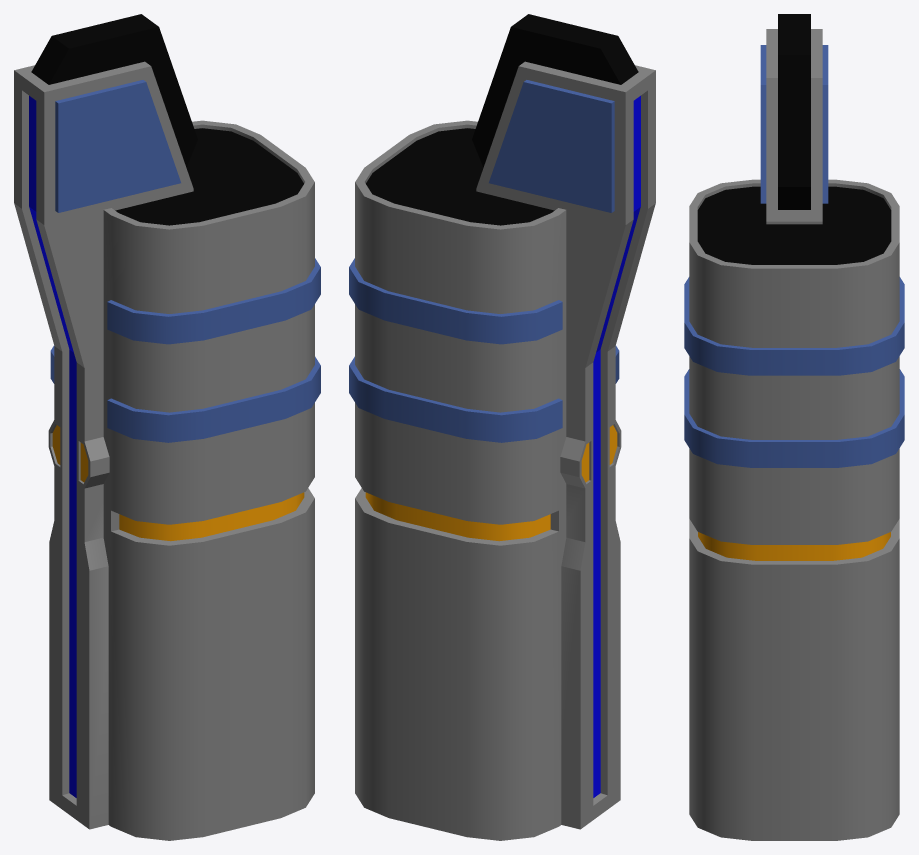
File: RoundedTower_001.fbx
The picture shows the model from 3 angles, left to right: view 1: azimuth 30°, elevation 25°; view 2: azimuth 150°, elevation 25°; view 3: azimuth 270°, elevation 25°; orthographic projection. The views are drawn at different scales.
Visible parts, largest first — view 1: RoundedTower_001; view 2: RoundedTower_001; view 3: RoundedTower_001.
Boxes of the visible parts, x1=… form: RoundedTower_001: x1=14, y1=14, x2=320, y2=840; RoundedTower_001: x1=349, y1=14, x2=655, y2=840; RoundedTower_001: x1=684, y1=14, x2=904, y2=840.
Bounding box in the file's own units: 26.56 × 76.03 × 20.97.
